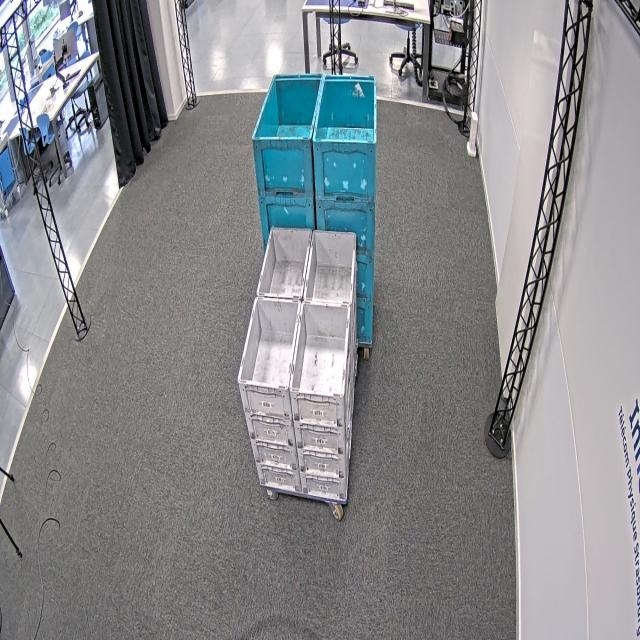Roll4G: (238, 292, 352, 403), (257, 224, 358, 305)
RollB4: (251, 73, 324, 144), (312, 74, 380, 150)
